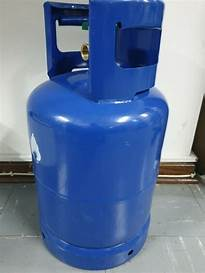blue_gas: (27, 1, 170, 271)
